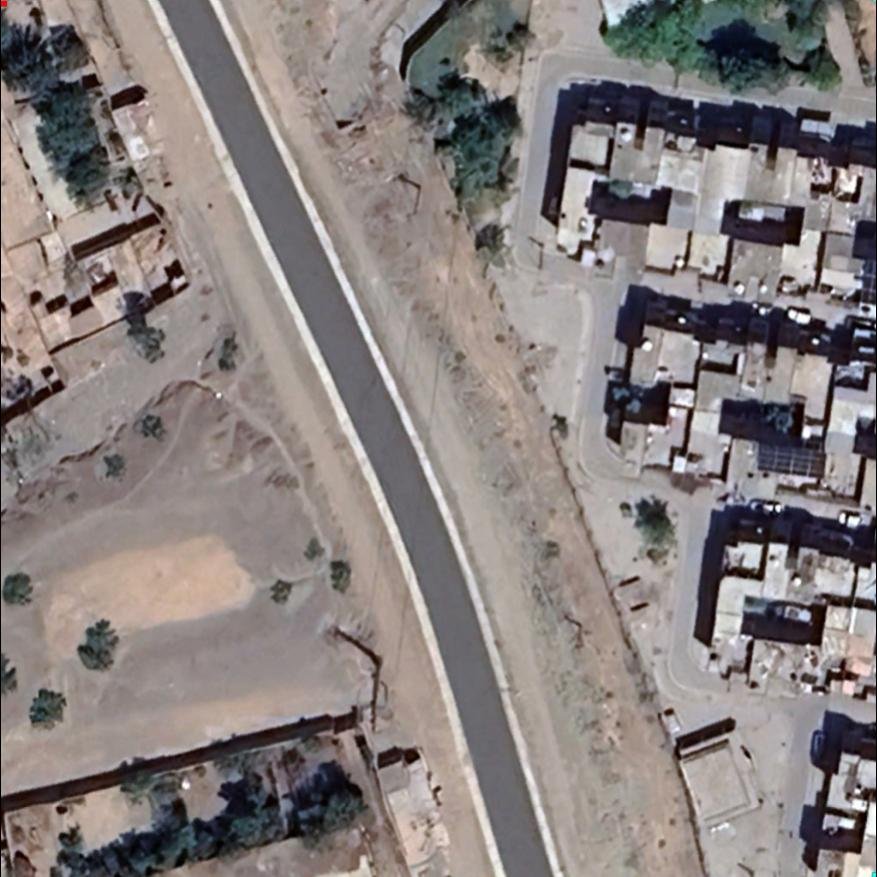Solarpanel: (746, 440, 832, 485), (857, 255, 875, 308)
